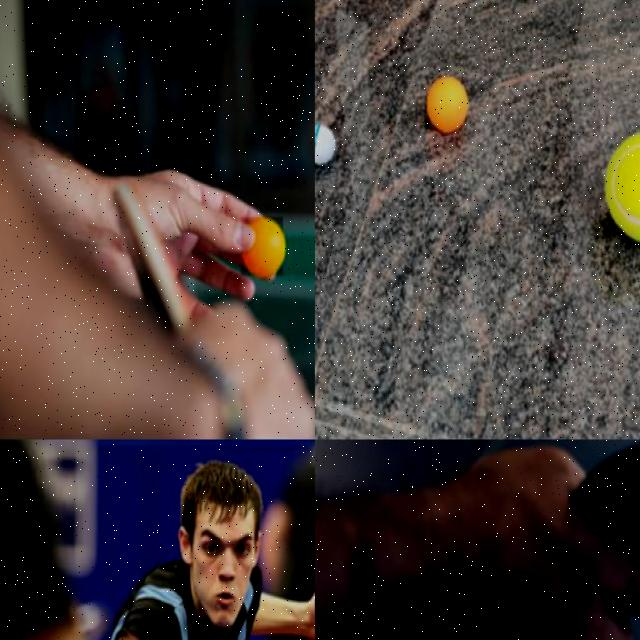ping-pong-ball: (241, 218, 284, 276), (425, 77, 468, 132)
